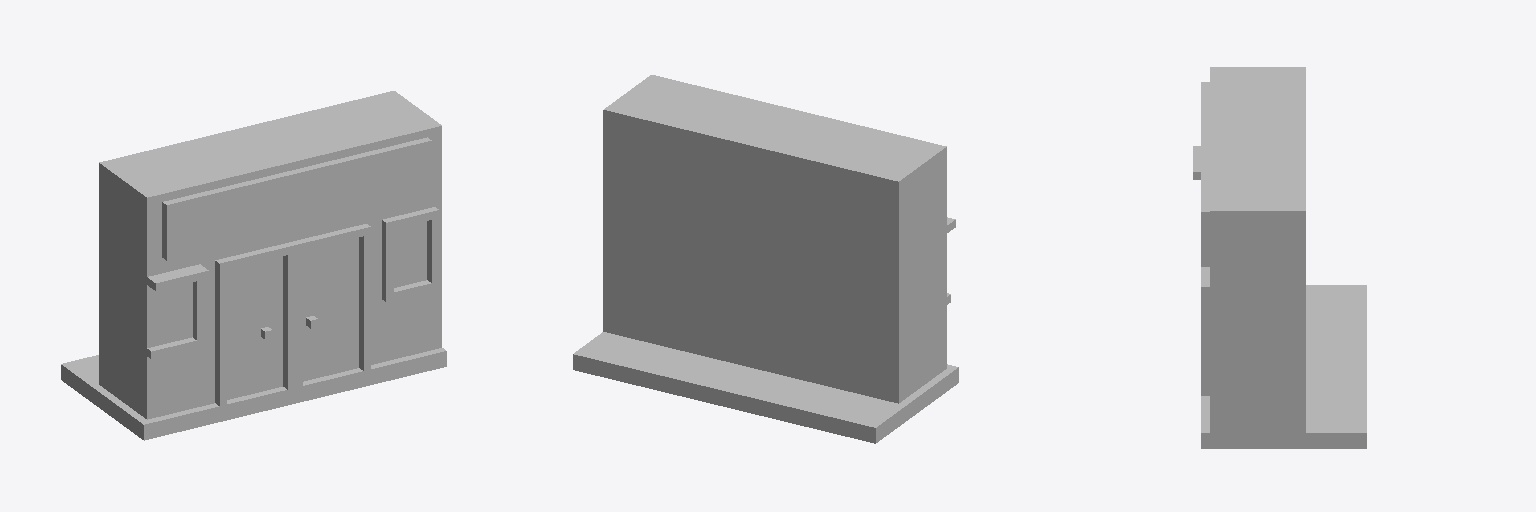
File: Hotel.obj
3 renders of one model, left to right at view 1: azimuth 30°, elevation 25°; view 2: azimuth 150°, elevation 25°; view 3: azimuth 270°, elevation 25°, orthographic.
Visible parts, largest first — view 1: object 1; view 2: object 1; view 3: object 1.
Boxes of the visible parts, <box> form: object 1: <box>61,91,446,440</box>; object 1: <box>573,75,958,443</box>; object 1: <box>1193,67,1366,448</box>.
Bounding box in the file's own units: 4 × 3 × 2.